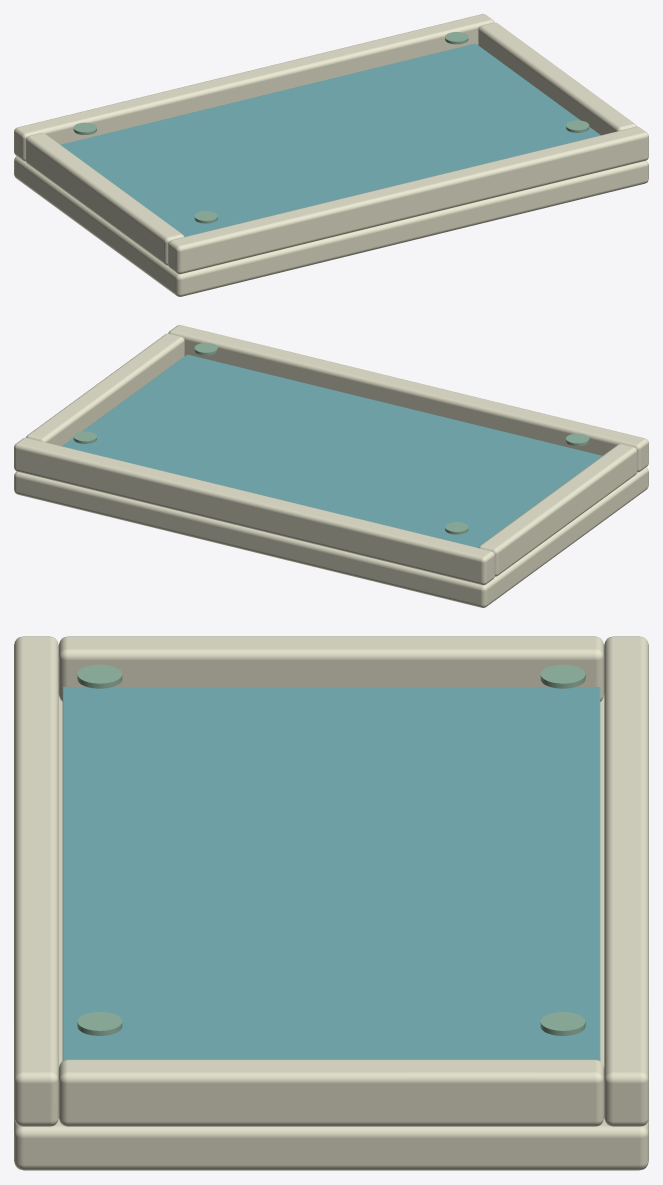
The model's file is enchanted-harp-garden-and-music-sanctuary-reflection-p-1d879686__30438.glb.
3 renders of one model, top to bottom at view 1: azimuth 30°, elevation 25°; view 2: azimuth 150°, elevation 25°; view 3: azimuth 270°, elevation 25°, orthographic. The views are drawn at different scales.
Parts seen in each view (by area): view 1: reflection-pool; view 2: reflection-pool; view 3: reflection-pool.
Boxes of the visible parts, x1,y1,x2,y2 form: reflection-pool: (14,14,648,296); reflection-pool: (14,325,648,607); reflection-pool: (14,636,648,1170).
Bounding box in the file's own units: 2.8 × 0.3099 × 1.7.
